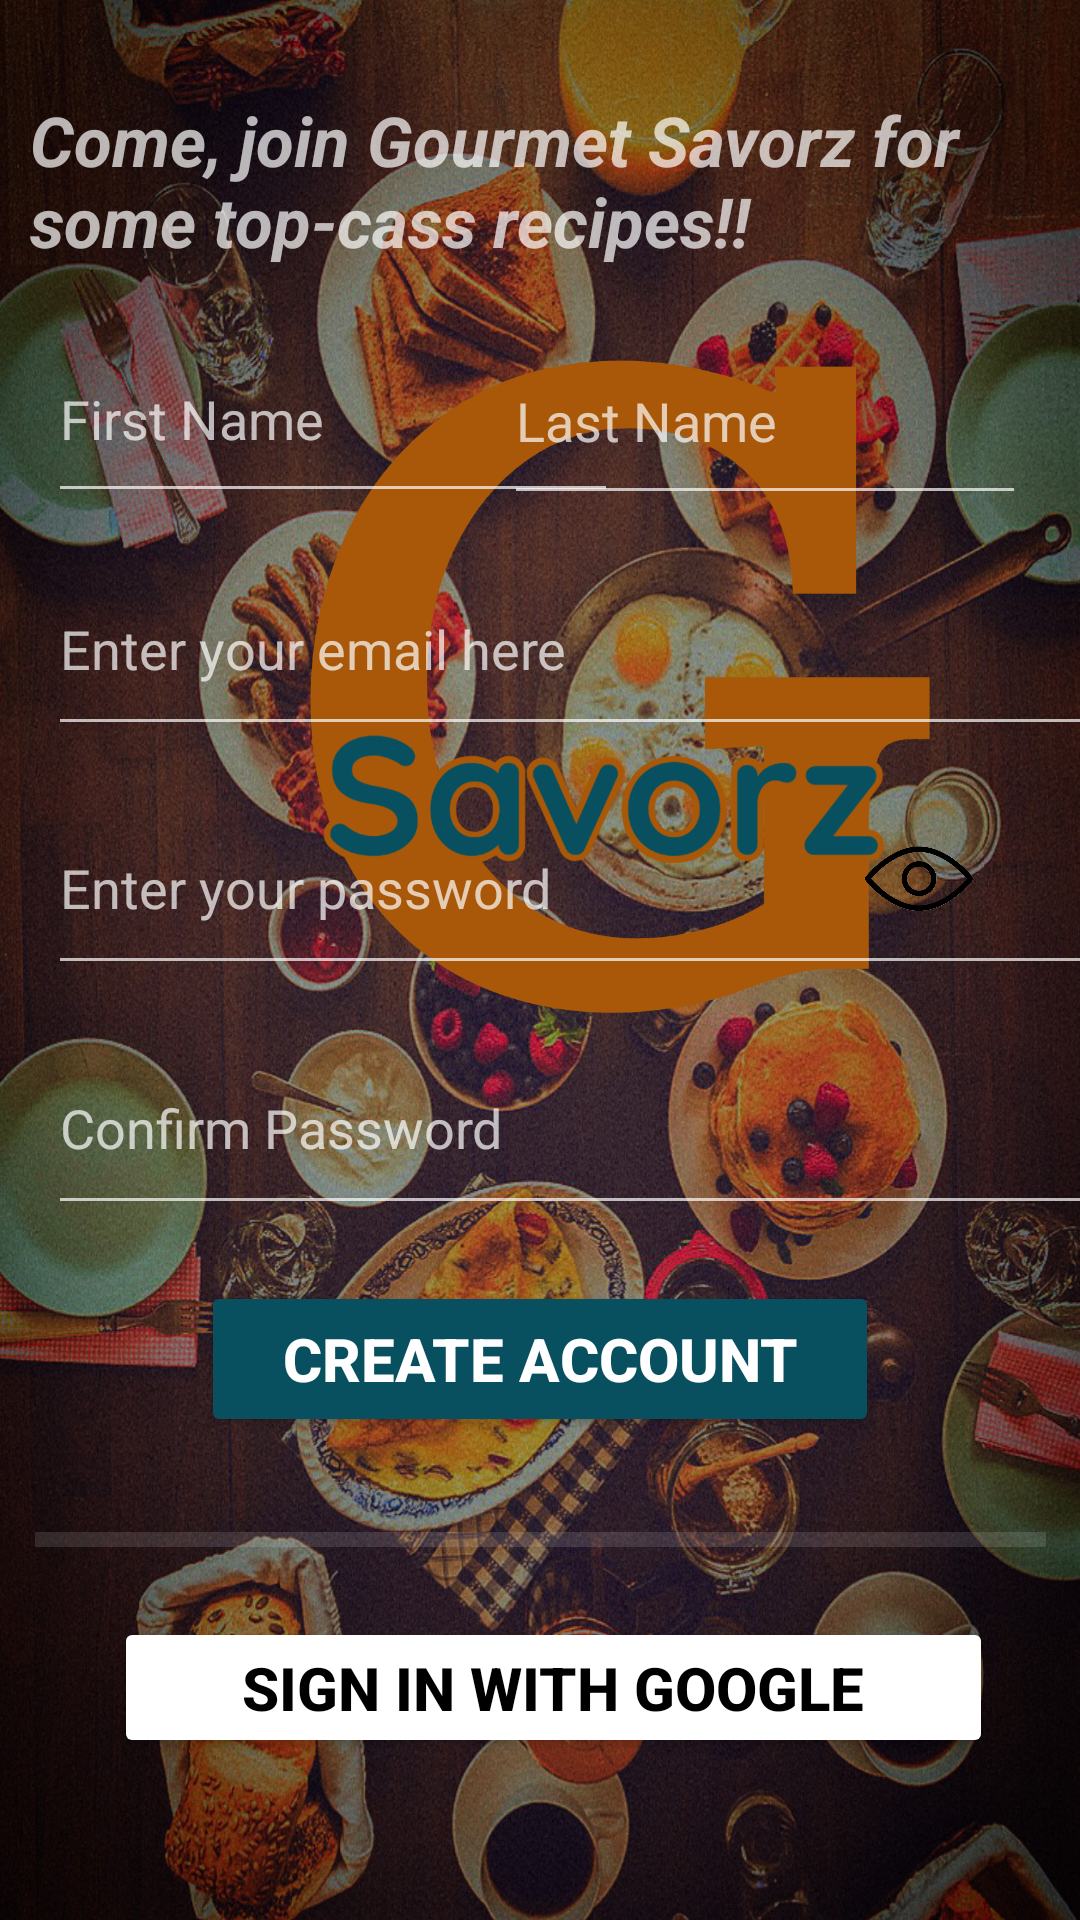

Icons on this 1080x1920 Android screen, each with the point to tap as point (x, y):
See Password: point (919, 877)
